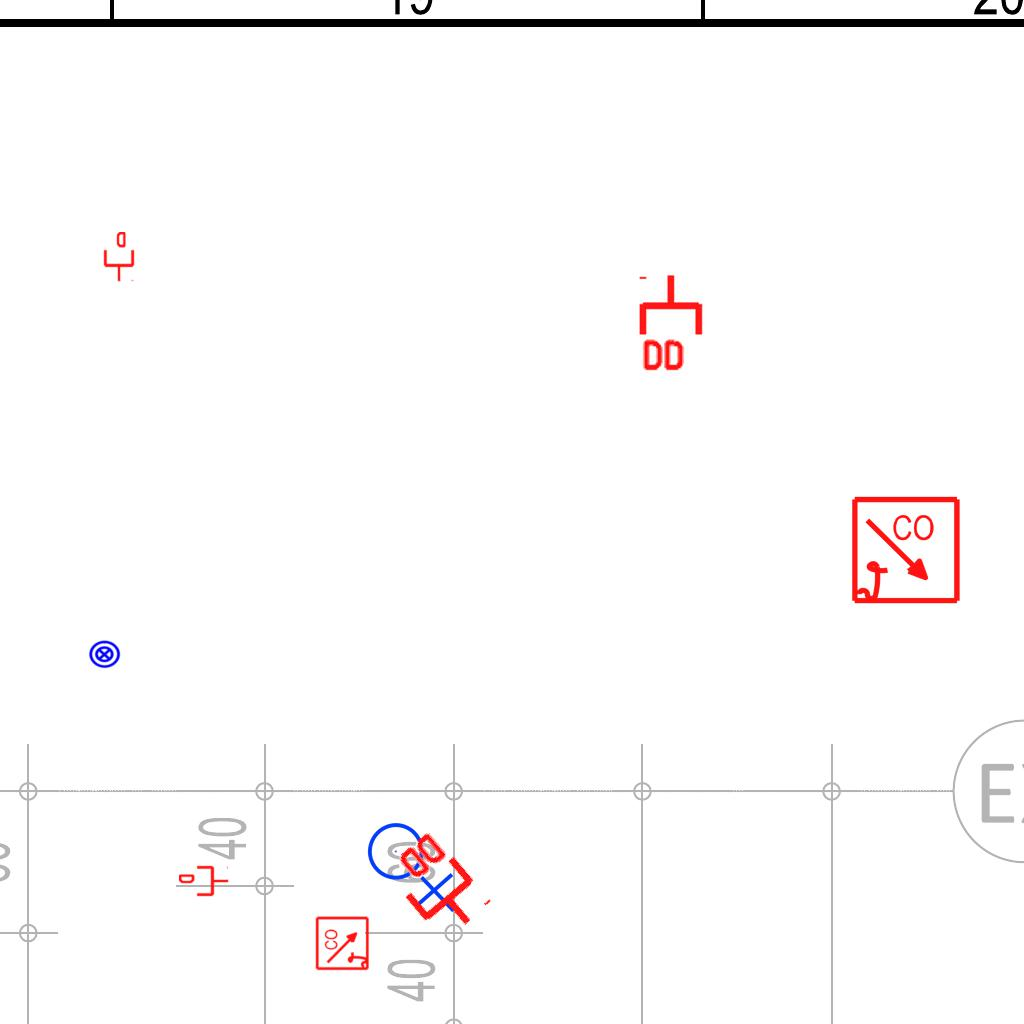Datenanschluss_einfach: (102, 232, 136, 282), (179, 864, 229, 898)
Datenanschluss_zweifach: (375, 824, 496, 949), (638, 272, 707, 375)
Elektroanschluss_allgemein_230V_Geraeteanschlussdose_230V: (366, 814, 460, 913)
ROA_Rauchmelder_optisch_mit_Signalgeber_(Sockelsirene): (850, 495, 963, 608), (315, 915, 371, 971)
Taster_beleuchtet: (88, 638, 121, 671)
